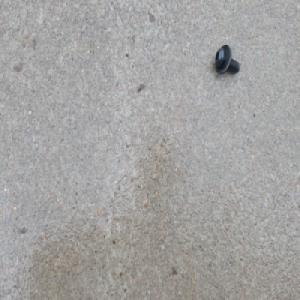BoltWasher: (213, 43, 240, 75)
